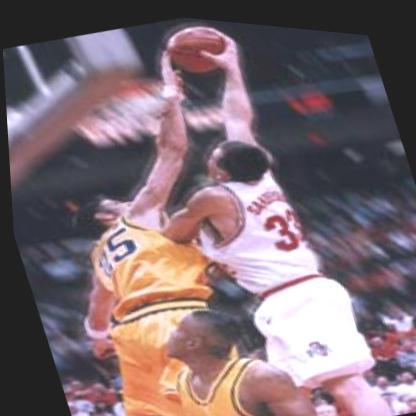basketball: (158, 12, 235, 81)
